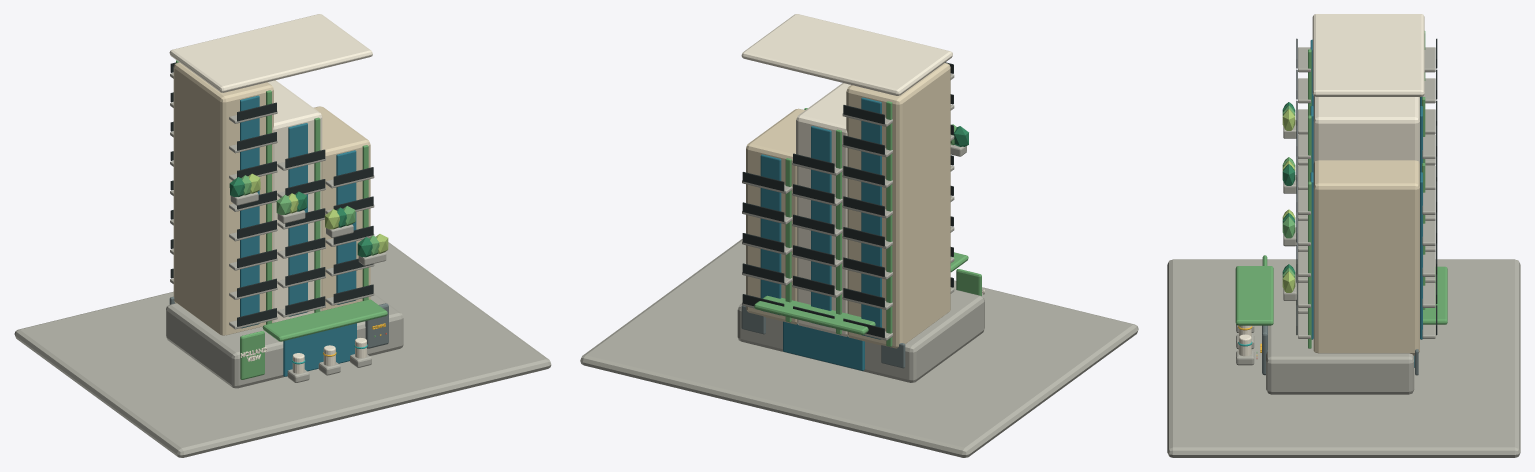
The model's file is condo-holland-v2.glb.
The picture shows the model from 3 angles, left to right: view 1: azimuth 30°, elevation 25°; view 2: azimuth 150°, elevation 25°; view 3: azimuth 270°, elevation 25°; orthographic projection. The views are drawn at different scales.
Parts seen in each view (by area): view 1: Ground, SOFIA HOLLAND CONDO CALL KIT · Warm plaster, SOFIA HOLLAND CONDO CALL KIT · Chalk, SOFIA HOLLAND CONDO CALL KIT · Concrete, SOFIA HOLLAND CONDO CALL KIT · Graphic glass, SOFIA HOLLAND CONDO CALL KIT · Ink, SOFIA HOLLAND CONDO CALL KIT · Plant mid, SOFIA HOLLAND CONDO CALL KIT · Plant deep, SOFIA HOLLAND CONDO CALL KIT · Plant lime, SOFIA HOLLAND CONDO CALL KIT · Dark metal; view 2: Ground, SOFIA HOLLAND CONDO CALL KIT · Warm plaster, SOFIA HOLLAND CONDO CALL KIT · Chalk, SOFIA HOLLAND CONDO CALL KIT · Graphic glass, SOFIA HOLLAND CONDO CALL KIT · Concrete, SOFIA HOLLAND CONDO CALL KIT · Ink, SOFIA HOLLAND CONDO CALL KIT · Plant mid, SOFIA HOLLAND CONDO CALL KIT · Dark metal; view 3: Ground, SOFIA HOLLAND CONDO CALL KIT · Warm plaster, SOFIA HOLLAND CONDO CALL KIT · Chalk, SOFIA HOLLAND CONDO CALL KIT · Concrete, SOFIA HOLLAND CONDO CALL KIT · Plant mid, SOFIA HOLLAND CONDO CALL KIT · Graphic glass, SOFIA HOLLAND CONDO CALL KIT · Ink, SOFIA HOLLAND CONDO CALL KIT · Plant lime, SOFIA HOLLAND CONDO CALL KIT · Plant deep, SOFIA HOLLAND CONDO CALL KIT · Dark metal.
Boxes of the visible parts, x1,y1,x2,y2 form: Ground: (14, 242, 551, 457); SOFIA HOLLAND CONDO CALL KIT · Warm plaster: (173, 62, 370, 335); SOFIA HOLLAND CONDO CALL KIT · Chalk: (169, 14, 372, 373); SOFIA HOLLAND CONDO CALL KIT · Concrete: (166, 73, 403, 388); SOFIA HOLLAND CONDO CALL KIT · Graphic glass: (240, 95, 356, 376); SOFIA HOLLAND CONDO CALL KIT · Ink: (170, 62, 373, 326); SOFIA HOLLAND CONDO CALL KIT · Plant mid: (176, 60, 387, 379); SOFIA HOLLAND CONDO CALL KIT · Plant deep: (229, 177, 372, 257); SOFIA HOLLAND CONDO CALL KIT · Plant lime: (248, 173, 388, 253); SOFIA HOLLAND CONDO CALL KIT · Dark metal: (169, 296, 388, 348); Ground: (580, 239, 1138, 457); SOFIA HOLLAND CONDO CALL KIT · Warm plaster: (746, 63, 950, 348); SOFIA HOLLAND CONDO CALL KIT · Chalk: (741, 14, 984, 336); SOFIA HOLLAND CONDO CALL KIT · Graphic glass: (760, 97, 881, 370); SOFIA HOLLAND CONDO CALL KIT · Concrete: (737, 74, 984, 382); SOFIA HOLLAND CONDO CALL KIT · Ink: (742, 62, 953, 337); SOFIA HOLLAND CONDO CALL KIT · Plant mid: (754, 101, 981, 346); SOFIA HOLLAND CONDO CALL KIT · Dark metal: (741, 305, 905, 368); Ground: (1167, 259, 1520, 457); SOFIA HOLLAND CONDO CALL KIT · Warm plaster: (1313, 96, 1419, 355); SOFIA HOLLAND CONDO CALL KIT · Chalk: (1238, 14, 1424, 356); SOFIA HOLLAND CONDO CALL KIT · Concrete: (1236, 47, 1435, 394); SOFIA HOLLAND CONDO CALL KIT · Plant mid: (1235, 31, 1447, 352); SOFIA HOLLAND CONDO CALL KIT · Graphic glass: (1310, 39, 1422, 367); SOFIA HOLLAND CONDO CALL KIT · Ink: (1296, 38, 1437, 335); SOFIA HOLLAND CONDO CALL KIT · Plant lime: (1282, 109, 1295, 292); SOFIA HOLLAND CONDO CALL KIT · Plant deep: (1282, 102, 1295, 274); SOFIA HOLLAND CONDO CALL KIT · Dark metal: (1262, 325, 1418, 375).
Size of the model in its own units: 12 by 9.06 by 9.3.
1 material, 1 textured.
